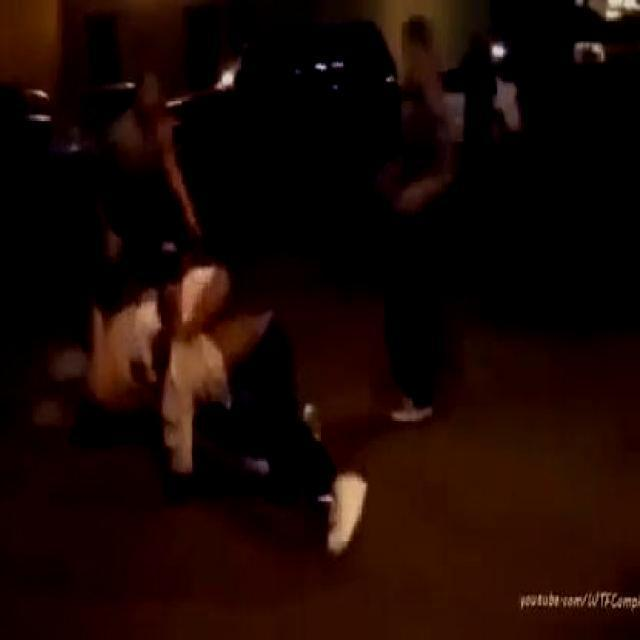fight: (82, 270, 370, 558)
